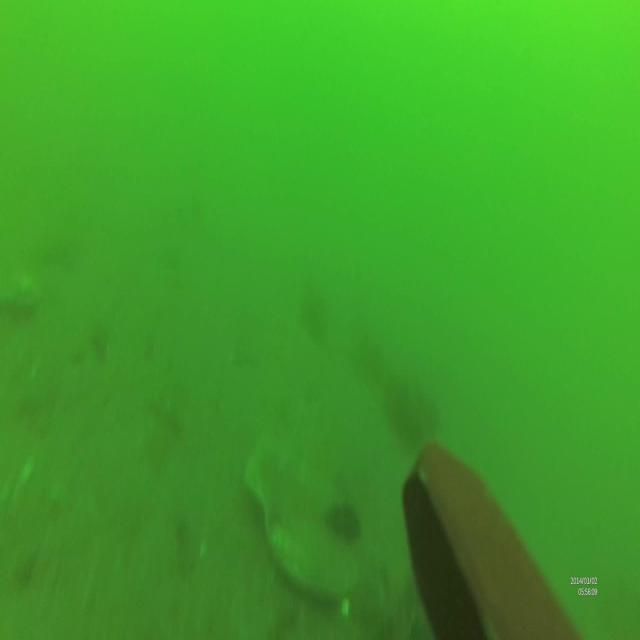echinus: (384, 379, 444, 448), (328, 503, 361, 545)
scallop: (270, 512, 358, 609)
